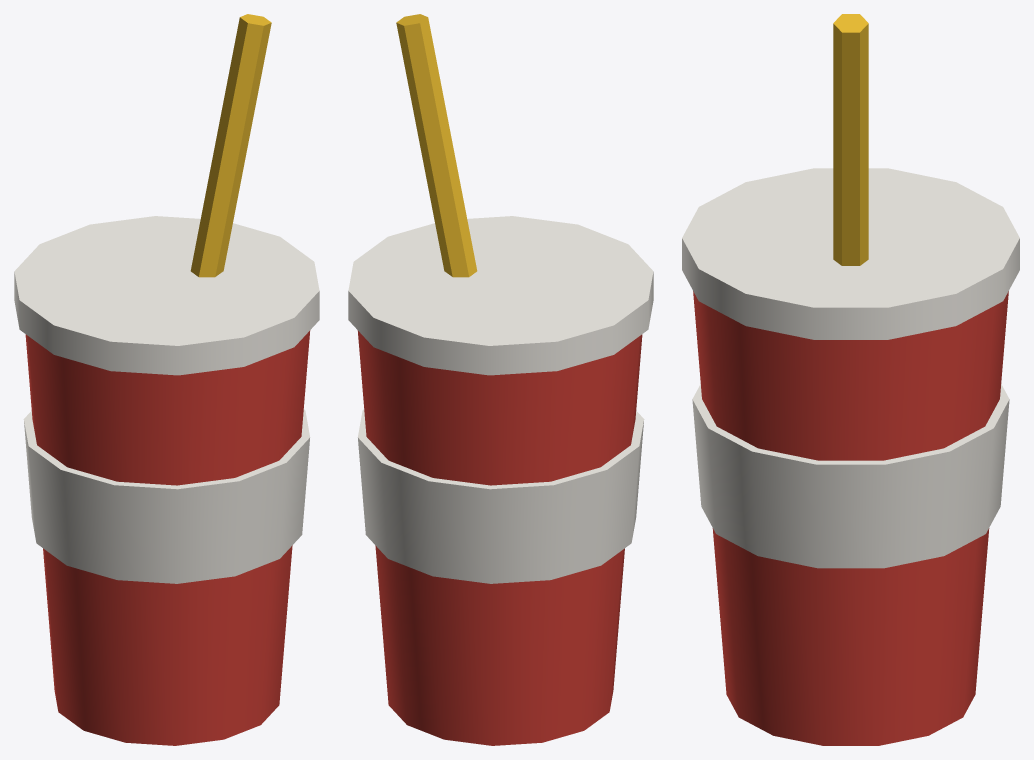
The model's file is soda.glb.
3 views of the same model, side by side, from view 1: azimuth 30°, elevation 25°; view 2: azimuth 150°, elevation 25°; view 3: azimuth 270°, elevation 25° (orthographic). The views are drawn at different scales.
Parts seen in each view (by area): view 1: SM_Soda_Cup; view 2: SM_Soda_Cup; view 3: SM_Soda_Cup.
Part boxes in pixels (box(x1,y1,x2,y2)): SM_Soda_Cup: box(14, 14, 319, 745); SM_Soda_Cup: box(348, 14, 653, 745); SM_Soda_Cup: box(682, 14, 1019, 745).
Size of the model in its own units: 0.1111 by 0.2687 by 0.114.
1 material, 1 textured.
